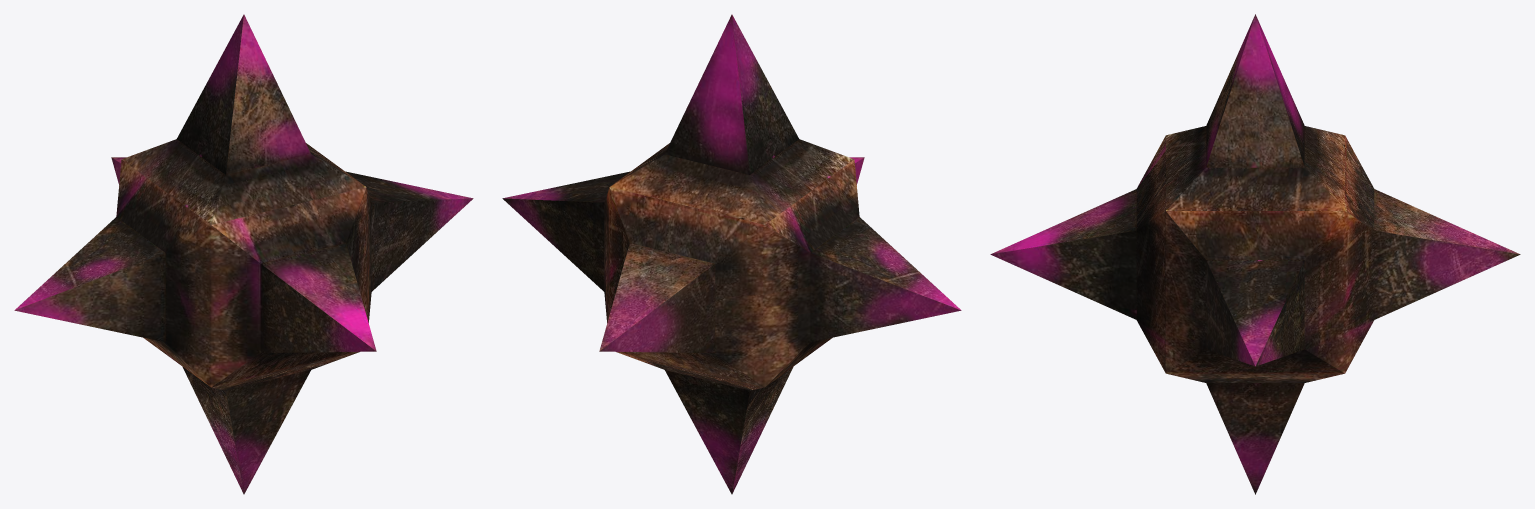
The model's file is SrPincho.fbx.
3 renders of one model, left to right at view 1: azimuth 30°, elevation 25°; view 2: azimuth 150°, elevation 25°; view 3: azimuth 270°, elevation 25°, orthographic.
Visible parts, largest first — view 1: Sr.Pinchos; view 2: Sr.Pinchos; view 3: Sr.Pinchos.
Boxes of the visible parts, x1,y1,x2,y2 form: Sr.Pinchos: (14,14,473,494); Sr.Pinchos: (502,14,961,494); Sr.Pinchos: (990,14,1520,494).
Bounding box in the file's own units: 592 × 592 × 592.
1 material, 1 textured.
